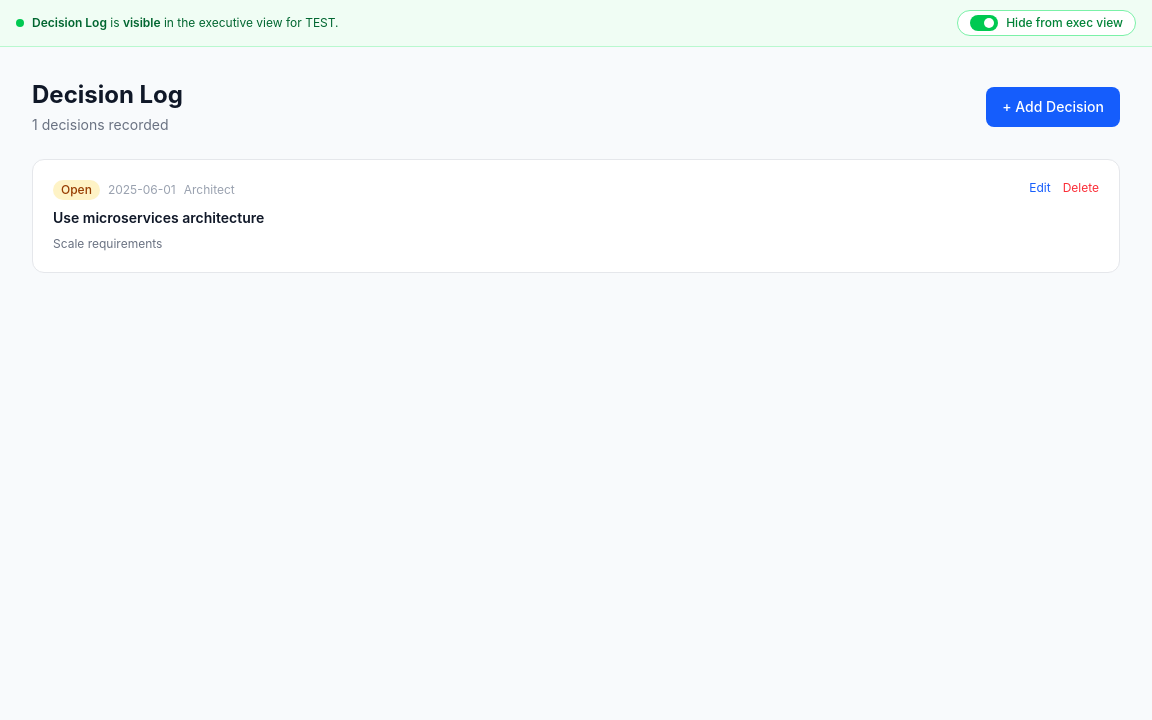
Test case: DecisionEditor › T-37.08: editing existing decision saves via else branch
Check: the text "Use microservices architecture" is shown, box [53,209,264,226]
Click the button "Edit" at (1040, 188), box [1029,180,1051,196]
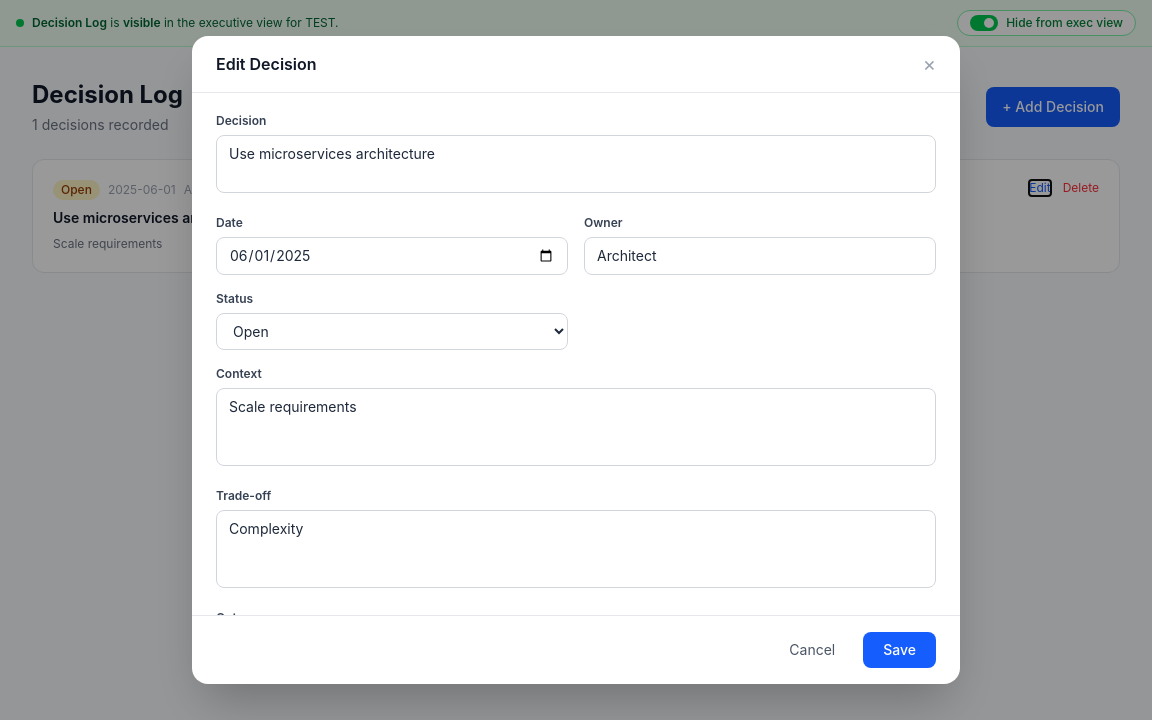
Check: the heading "Edit Decision" is shown, box [216,52,317,76]
Click the button "Save" at (900, 650), box [863,632,936,668]
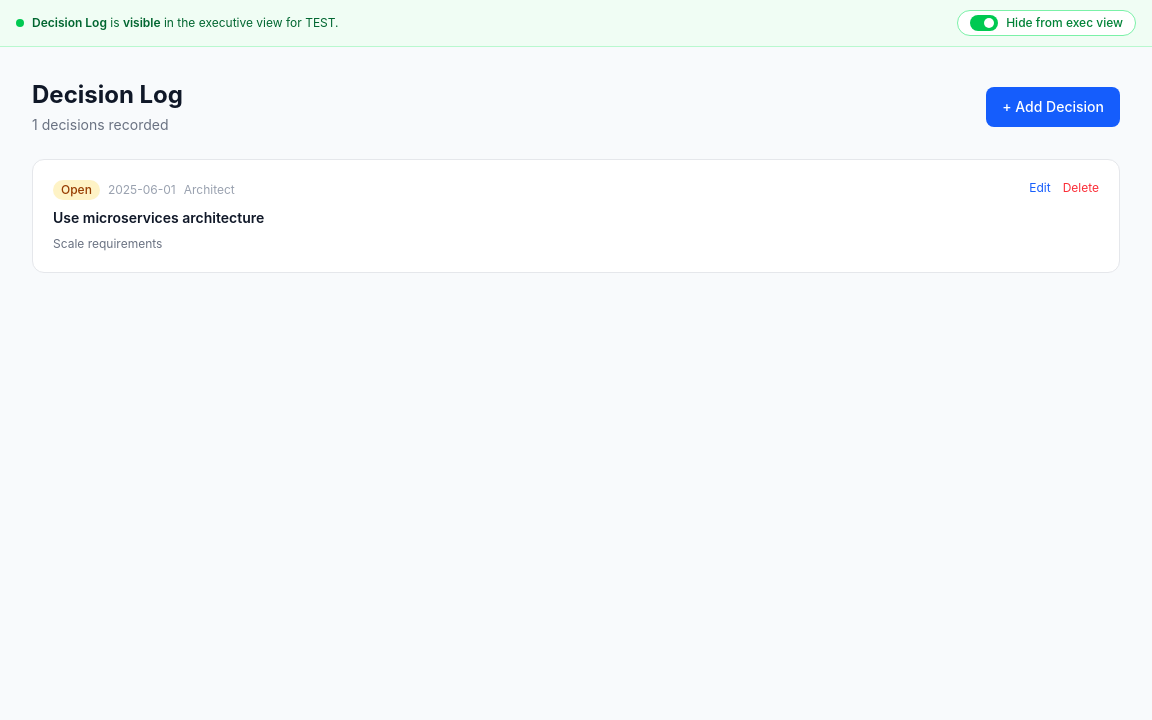
Check: the text "Use microservices architecture" is shown, box [53,209,264,226]
Check: the heading "Edit Decision" is gone
